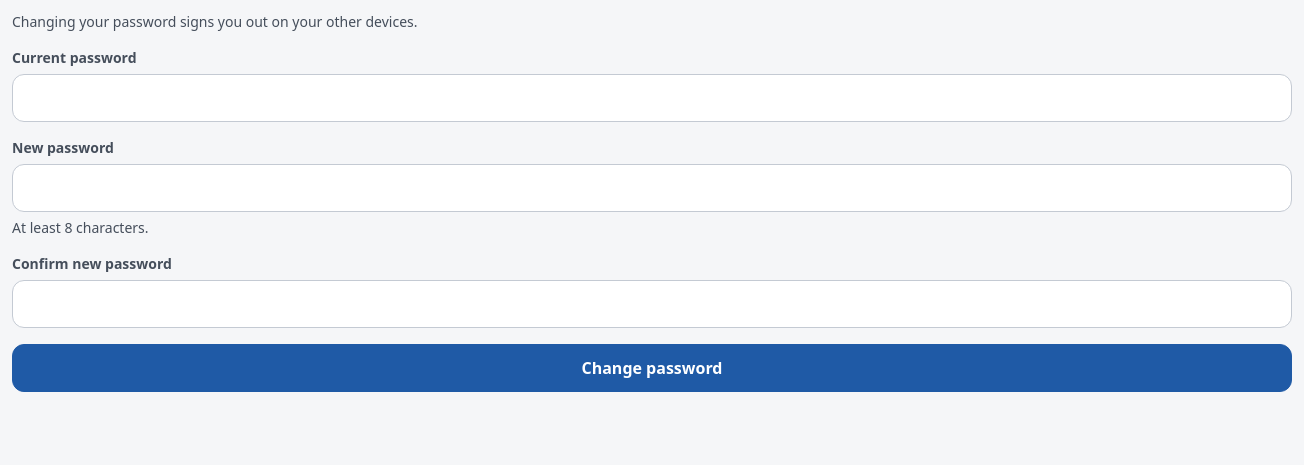
Test: ChangePasswordForm › re-authenticates with the session email, then updates the password, then clears the fields
Type "old-password" into the password field labelled "Current password" at (652, 98), box [12,74,1292,122]
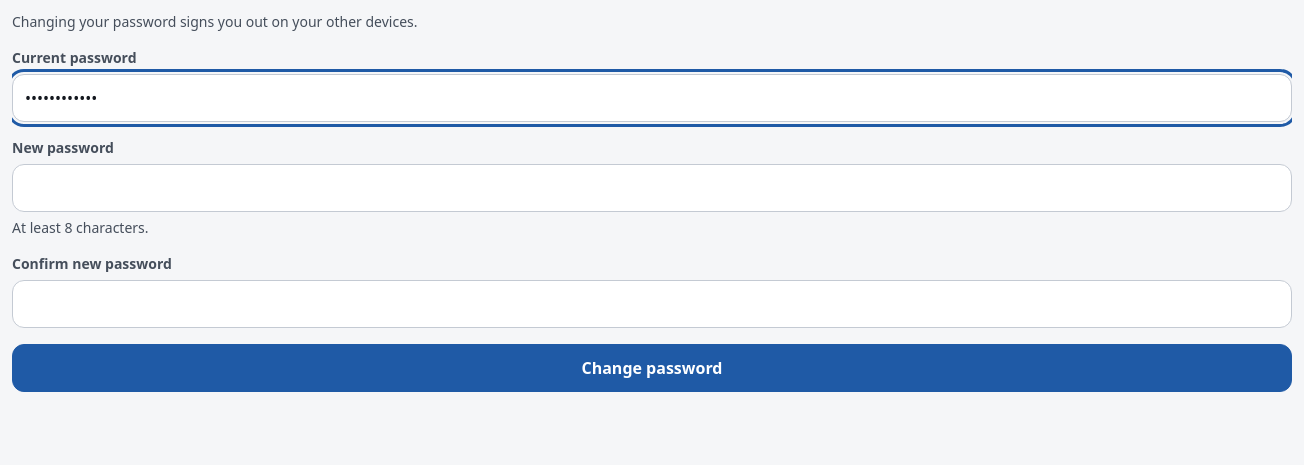
Type "new-password-1" into the password field labelled "New password" at (652, 188), box [12,164,1292,212]
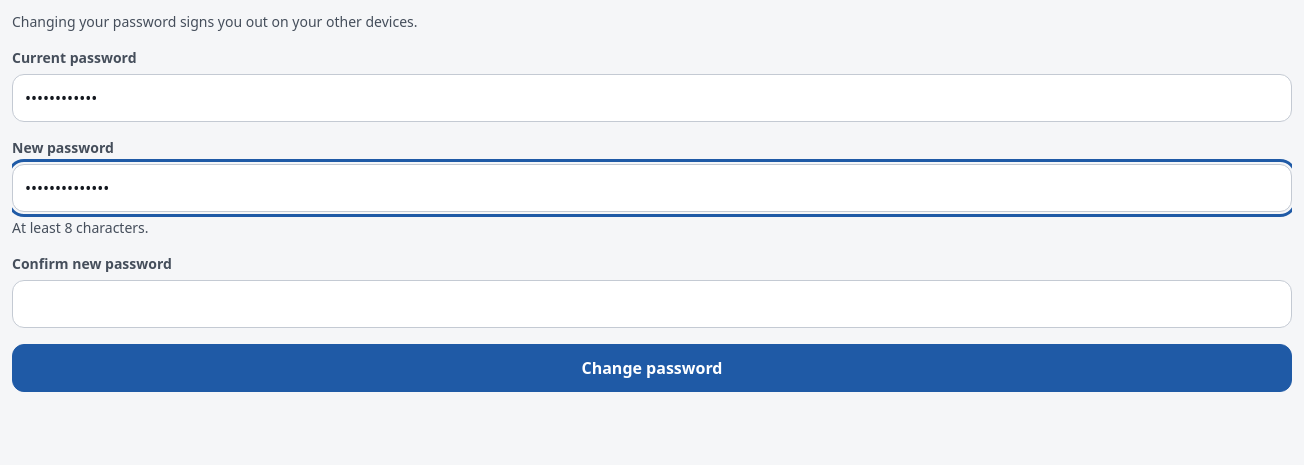
Type "new-password-1" into the password field labelled "Confirm new password" at (652, 304), box [12,280,1292,328]
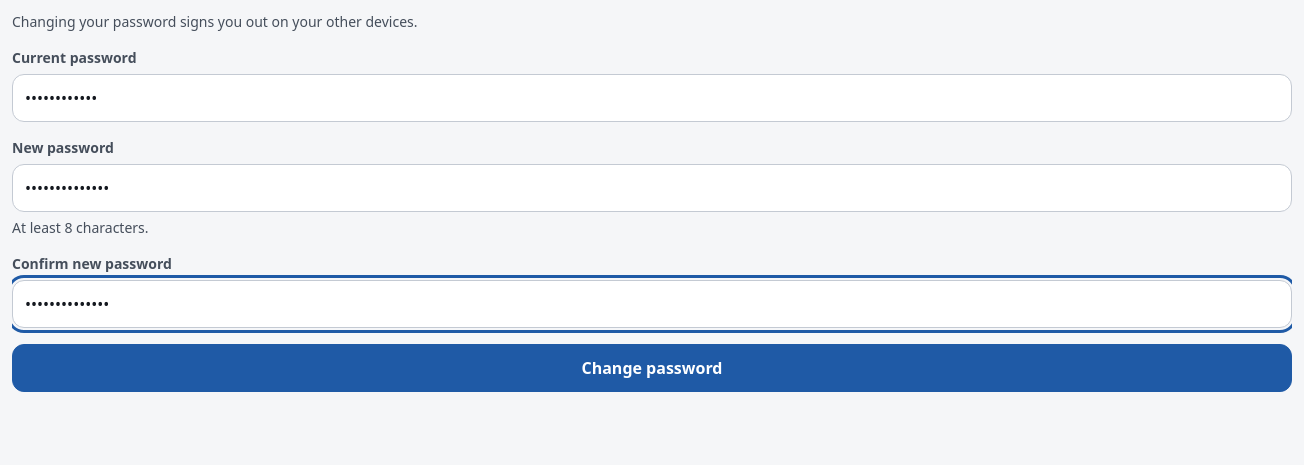
Click the button "Change password" at (652, 368), box [12,344,1292,392]
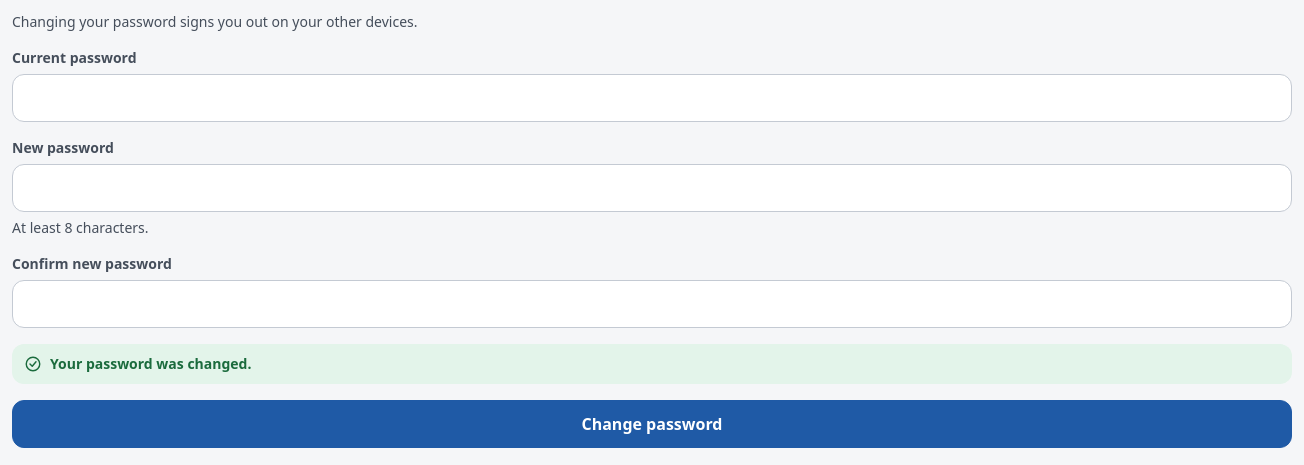
Result: the message reads "Your password was changed." at [50,354,251,373]
Result: the password field labelled "Current password" is empty at [12,74,1292,122]
Result: the password field labelled "New password" is empty at [12,164,1292,212]
